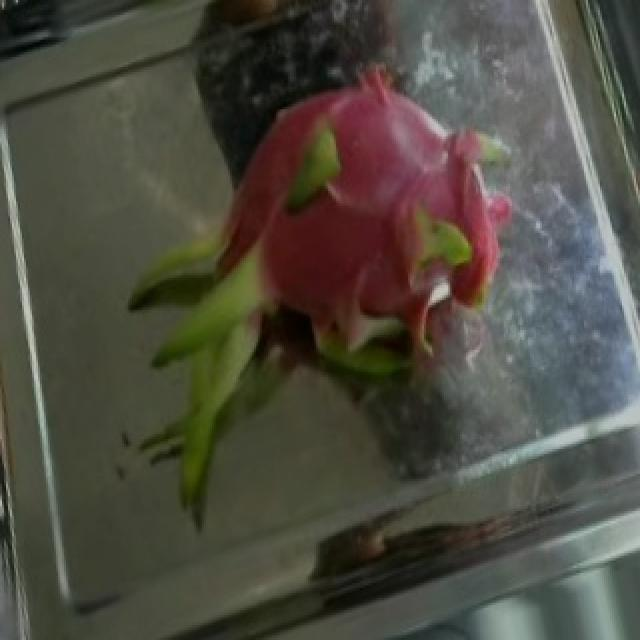fruit: (106, 30, 550, 501)
